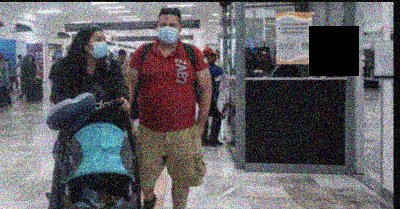with_mask: (88, 34, 109, 60), (158, 20, 179, 44)
